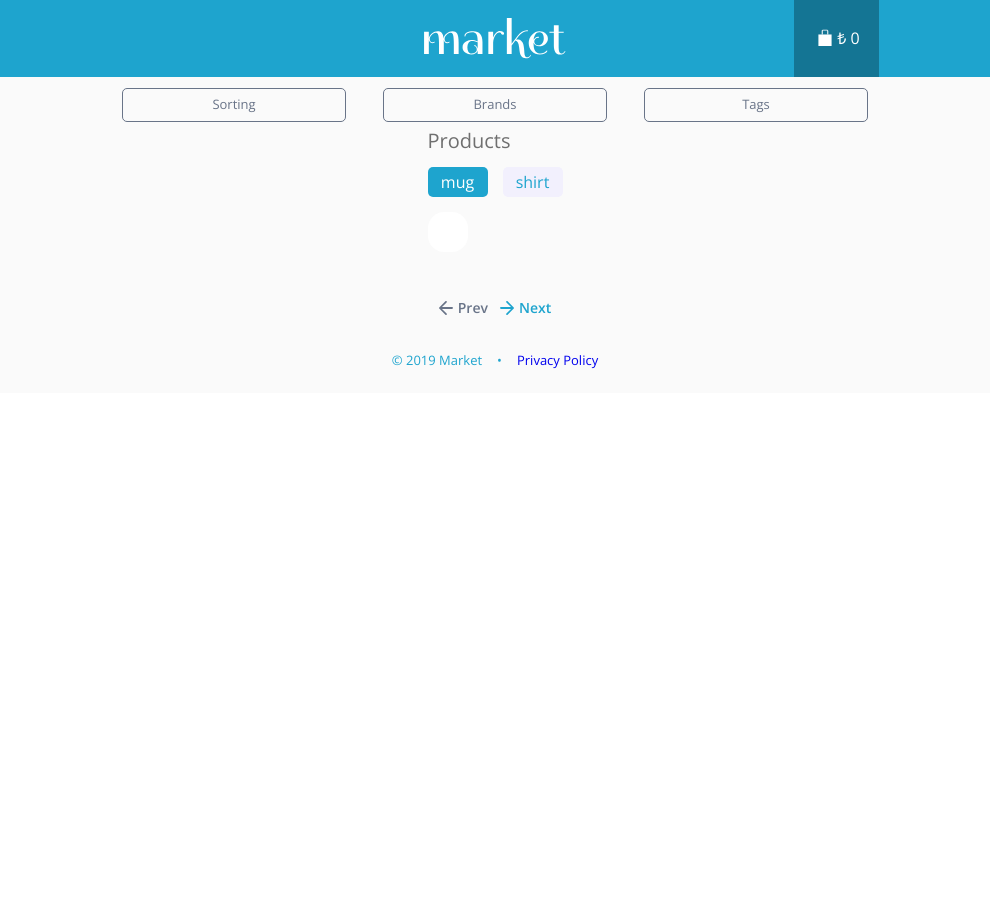
Test: Filters › should render sort content on click on mobile
Click the text with test id "sort__label" at (234, 105), box [122, 88, 345, 122]
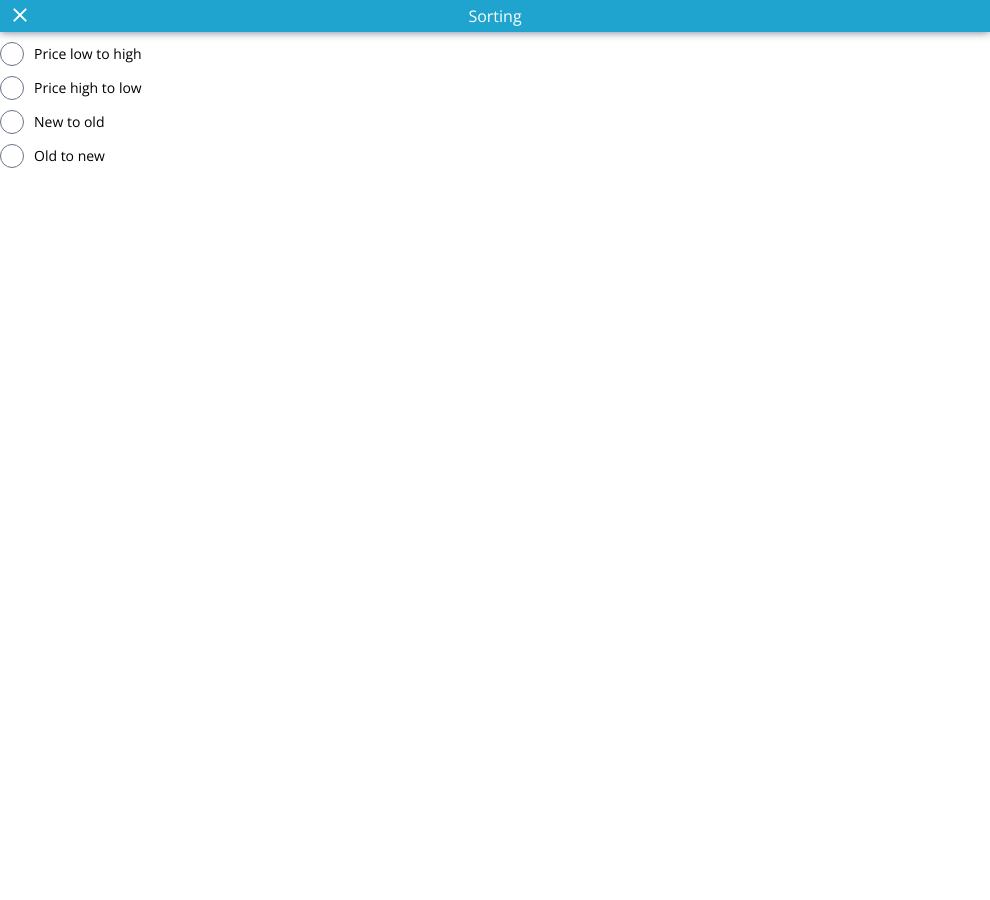
Expected: the element with test id "sort__content" is shown
